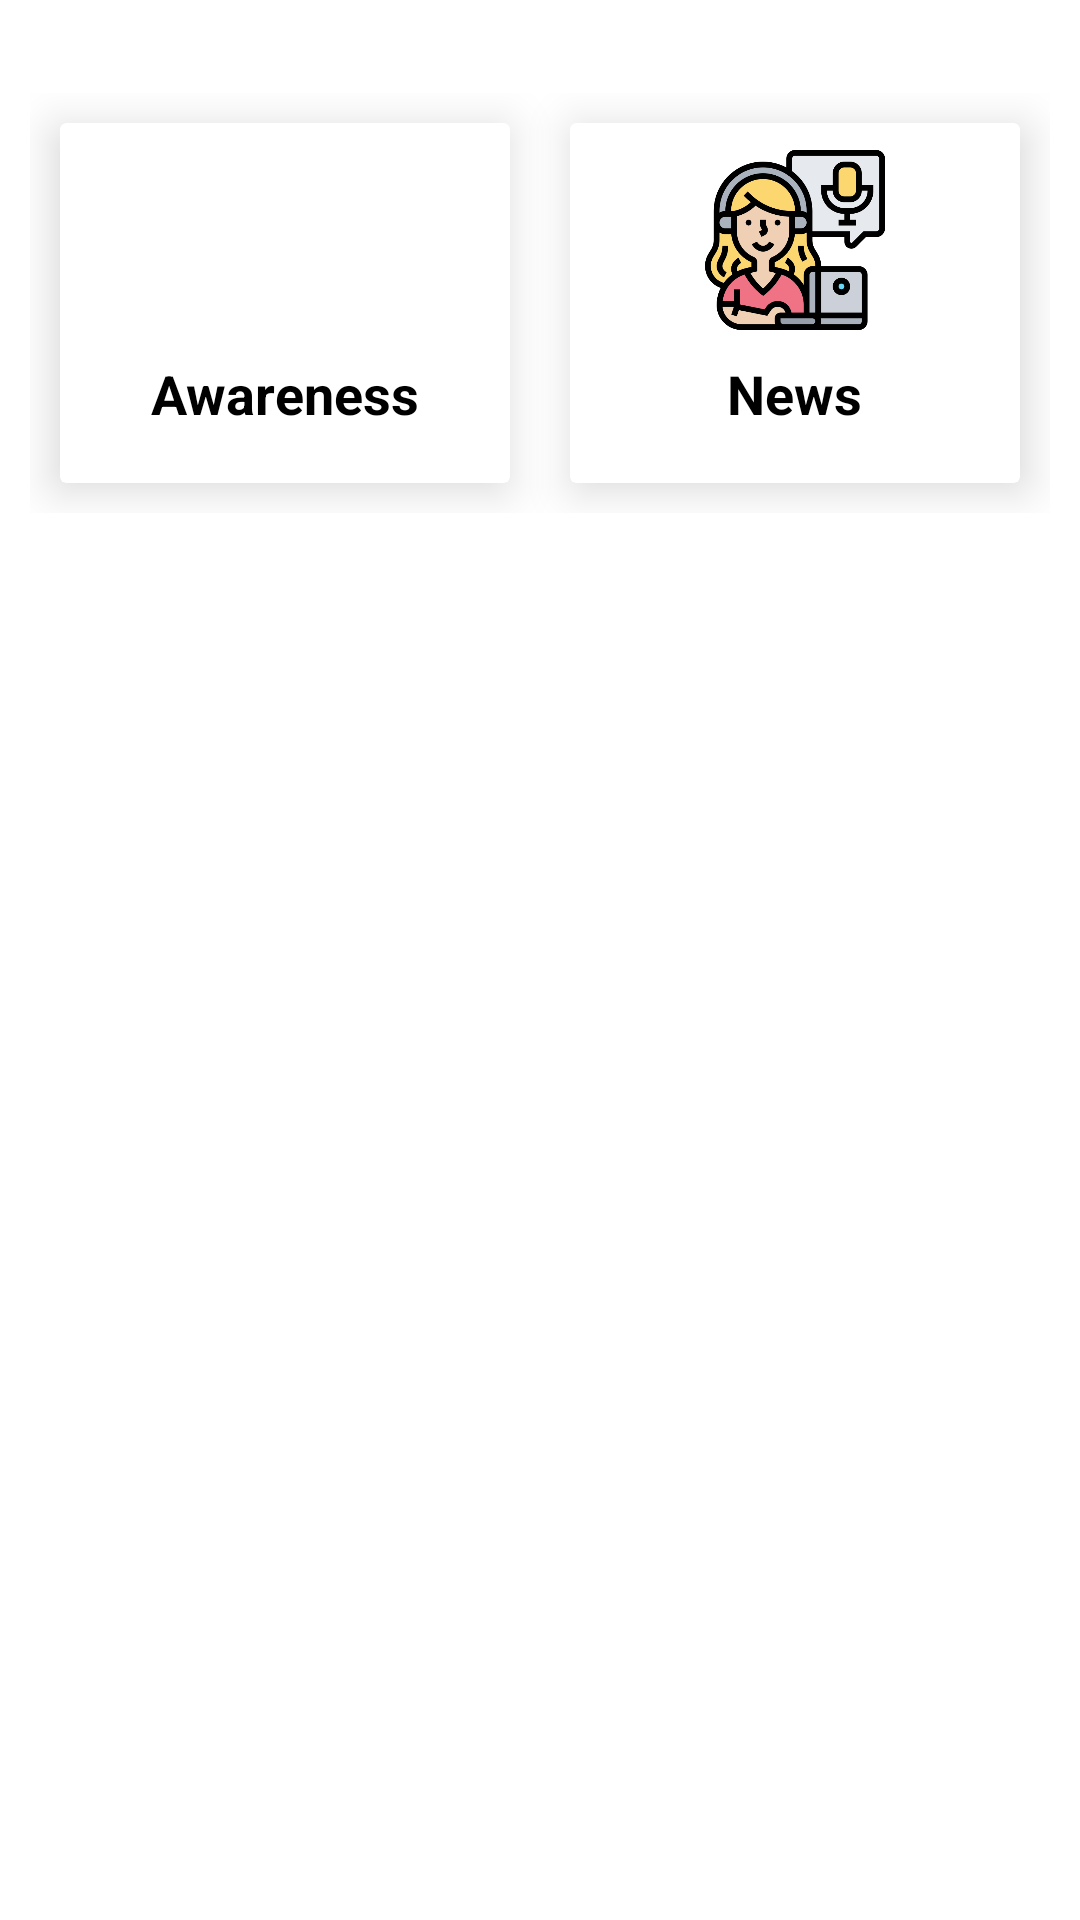

Where icons sit on this 1080*1920 app screen, as (x1, y1, x2, y2):
podcast: (705, 150, 885, 330)
